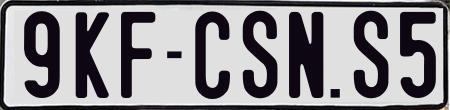5: (397, 11, 431, 99)
9: (23, 9, 61, 98)
C: (194, 10, 229, 100)
F: (118, 10, 155, 101)
K: (76, 10, 111, 97)
N: (288, 9, 325, 96)
S: (351, 9, 392, 102), (243, 11, 283, 100)
